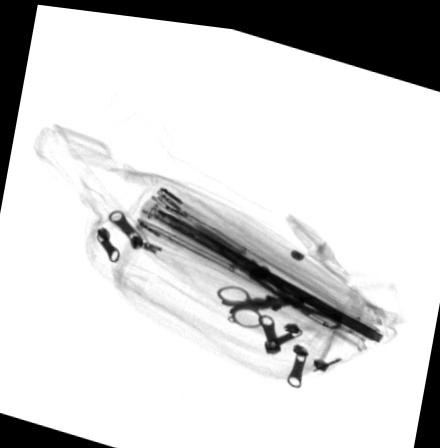Knife: (153, 202, 386, 332)
Scissors: (216, 276, 308, 323)
